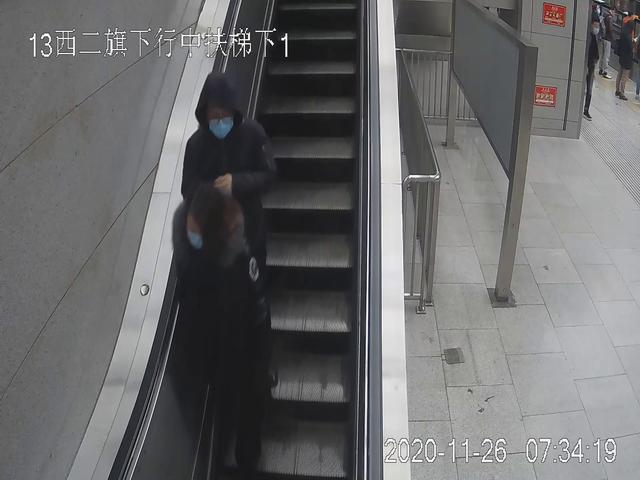person: (181, 75, 281, 389), (171, 185, 273, 472), (583, 20, 602, 122), (615, 18, 635, 100), (599, 6, 620, 78)
